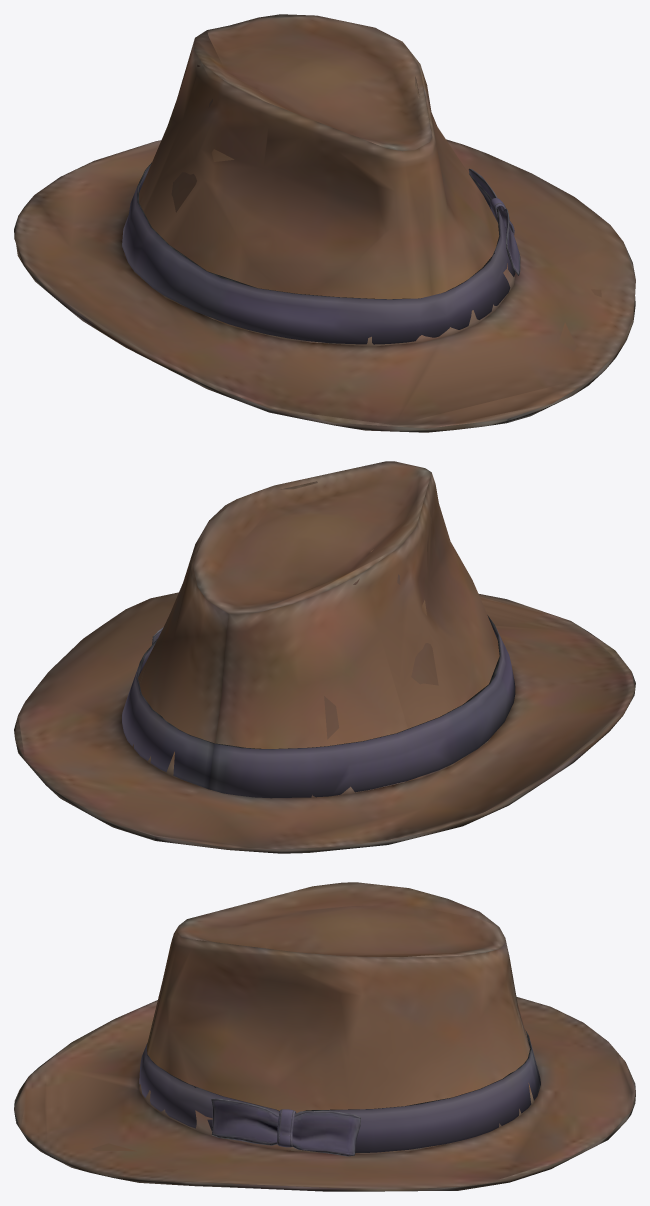
File: fedorahat.glb
The picture shows the model from 3 angles, top to bottom: view 1: azimuth 30°, elevation 25°; view 2: azimuth 150°, elevation 25°; view 3: azimuth 270°, elevation 25°; orthographic projection. The views are drawn at different scales.
Parts seen in each view (by area): view 1: Object_4, Object_6, Object_8; view 2: Object_4, Object_6; view 3: Object_4, Object_6, Object_8, Object_10.
Boxes of the visible parts, x1,y1,x2,y2 form: Object_4: (14,14,635,432); Object_6: (122,162,515,344); Object_8: (468,168,520,275); Object_4: (14,461,635,853); Object_6: (122,615,515,798); Object_4: (14,882,635,1191); Object_6: (139,1030,540,1152); Object_8: (211,1098,360,1156); Object_10: (277,1109,296,1147).
Size of the model in its own units: 2.88 by 1.23 by 3.57.
1 material, 1 textured.
